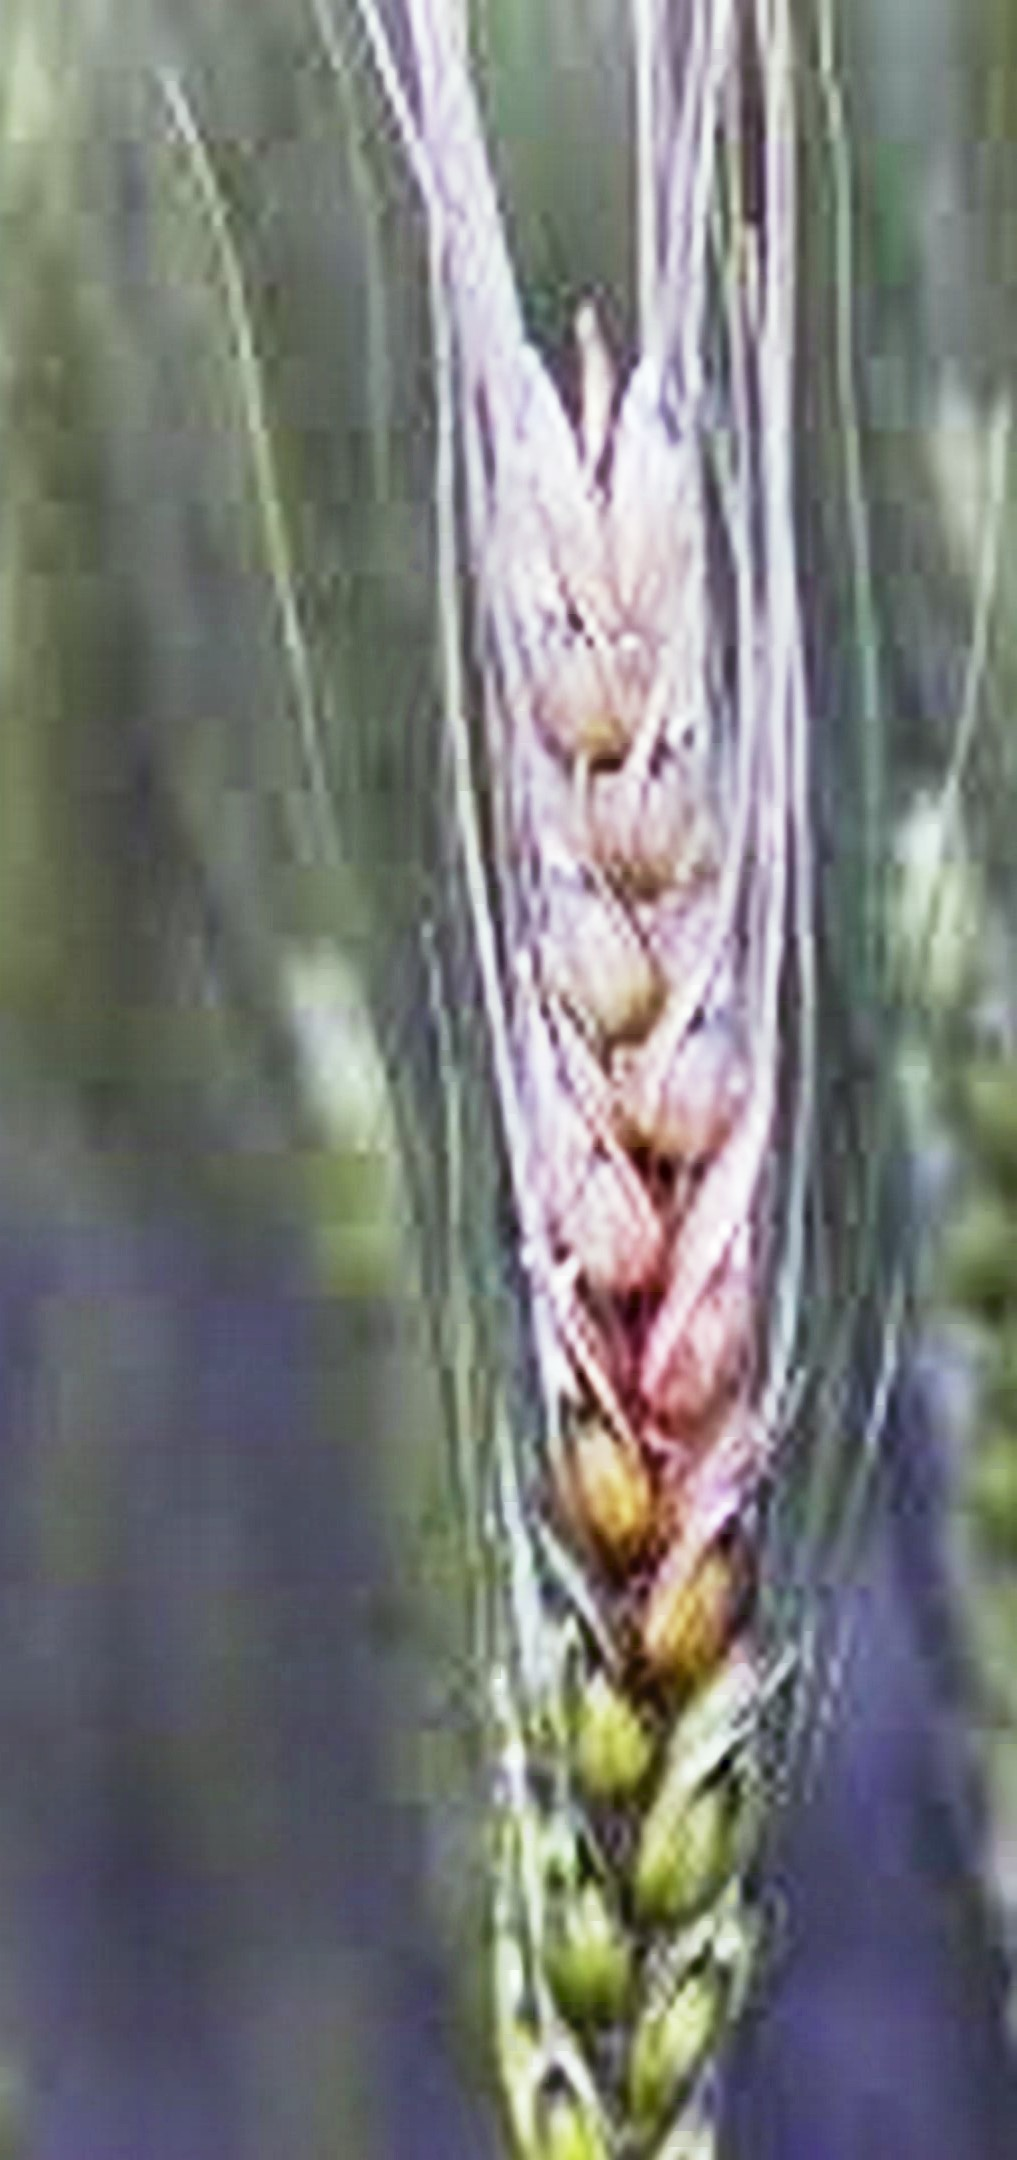Wheat scab: (267, 298, 872, 2139)
